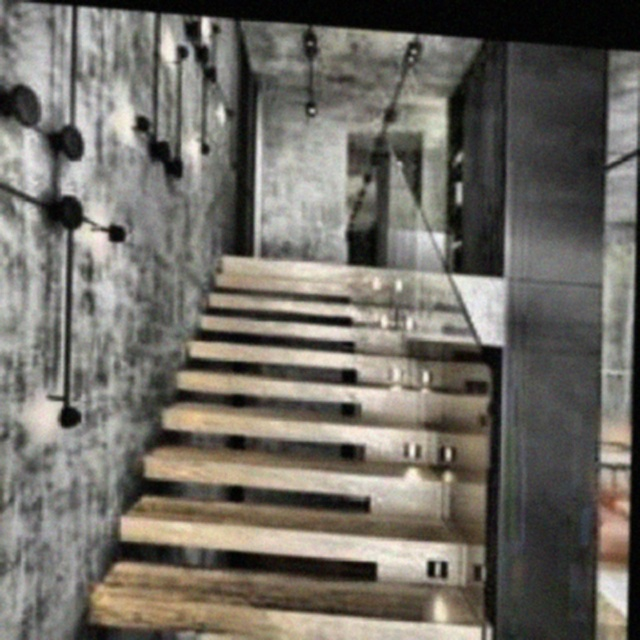stair: (108, 218, 526, 638)
